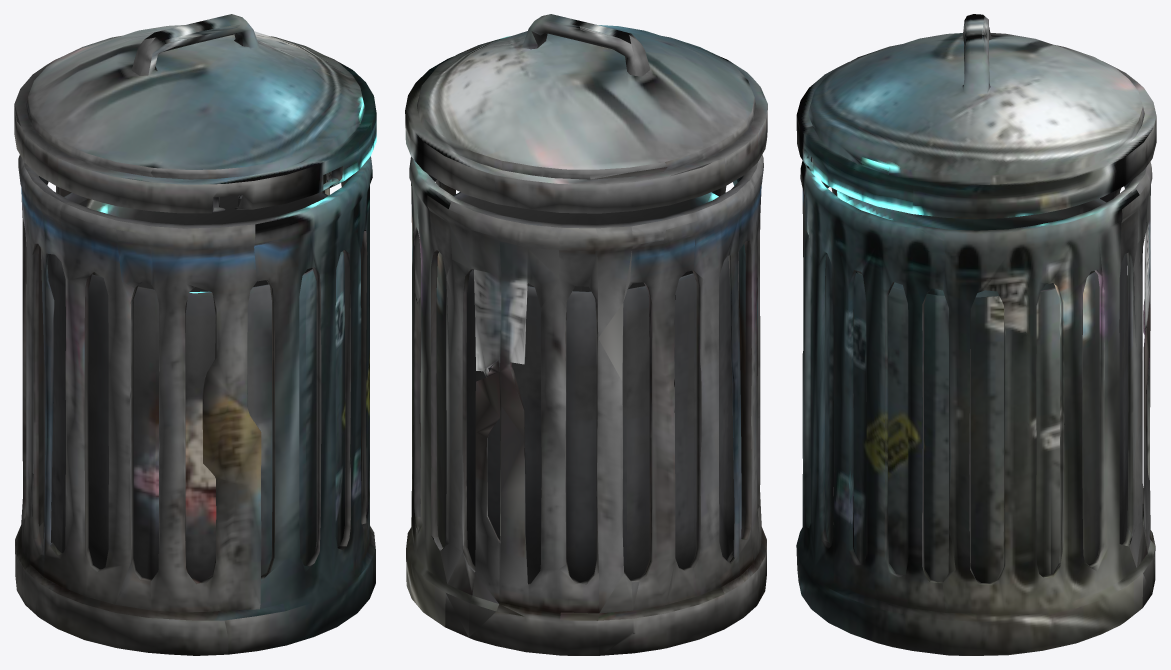
3 renders of one model, left to right at view 1: azimuth 30°, elevation 25°; view 2: azimuth 150°, elevation 25°; view 3: azimuth 270°, elevation 25°, orthographic.
Parts seen in each view (by area): view 1: SM_SM_AI_garbage_can; view 2: SM_SM_AI_garbage_can; view 3: SM_SM_AI_garbage_can.
Part boxes in pixels (bbox=[...]): SM_SM_AI_garbage_can: bbox=[14, 14, 376, 655]; SM_SM_AI_garbage_can: bbox=[405, 14, 767, 655]; SM_SM_AI_garbage_can: bbox=[796, 14, 1156, 655].
Bounding box in the file's own units: 0.5904 × 1 × 0.5927.
1 material, 1 textured.
